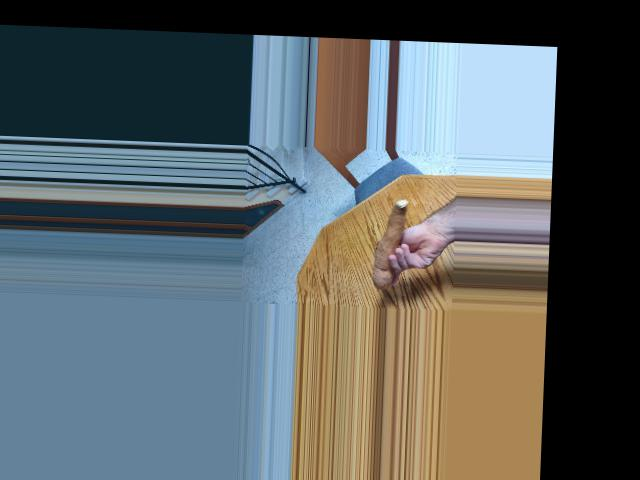sweet_potato: (368, 202, 411, 286)
